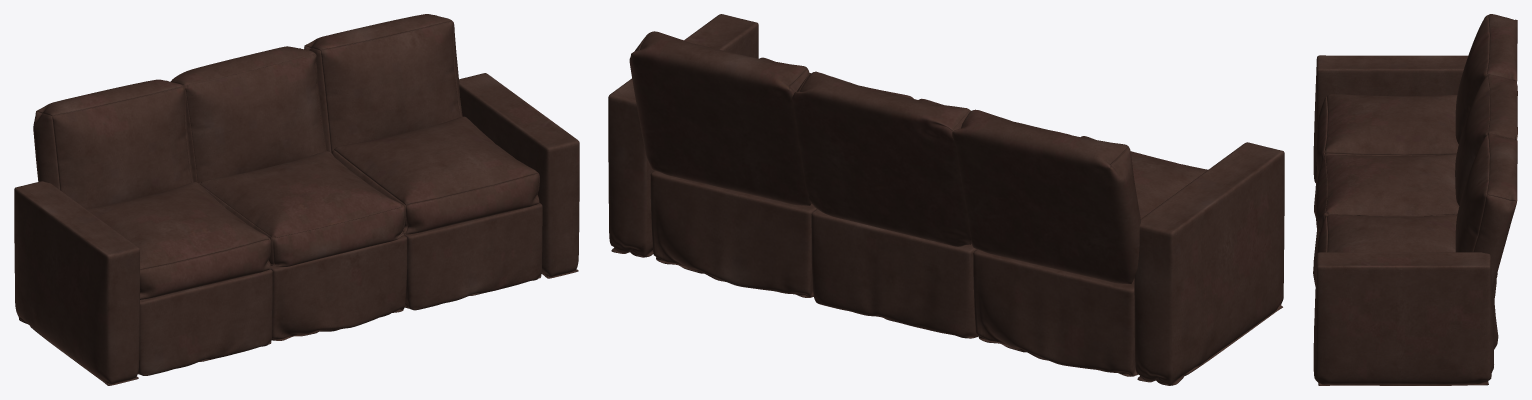
3 renders of one model, left to right at view 1: azimuth 30°, elevation 25°; view 2: azimuth 150°, elevation 25°; view 3: azimuth 270°, elevation 25°, orthographic. The views are drawn at different scales.
Parts seen in each view (by area): view 1: Plane.002; view 2: Plane.002; view 3: Plane.002.
Boxes of the visible parts, left/top/right/bottom form: Plane.002: left=14, top=14, right=579, bottom=385; Plane.002: left=608, top=14, right=1284, bottom=385; Plane.002: left=1313, top=14, right=1517, bottom=385.
Bounding box in the file's own units: 2.16 × 0.836 × 0.8616.
Materials: 1 (1 with a texture image).
